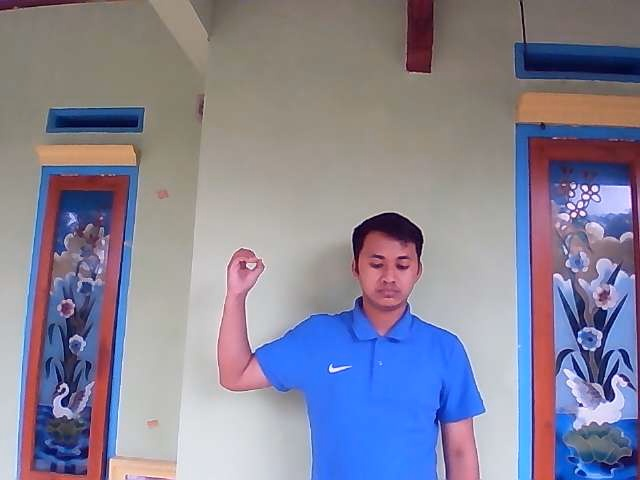O: (224, 248, 266, 293)
